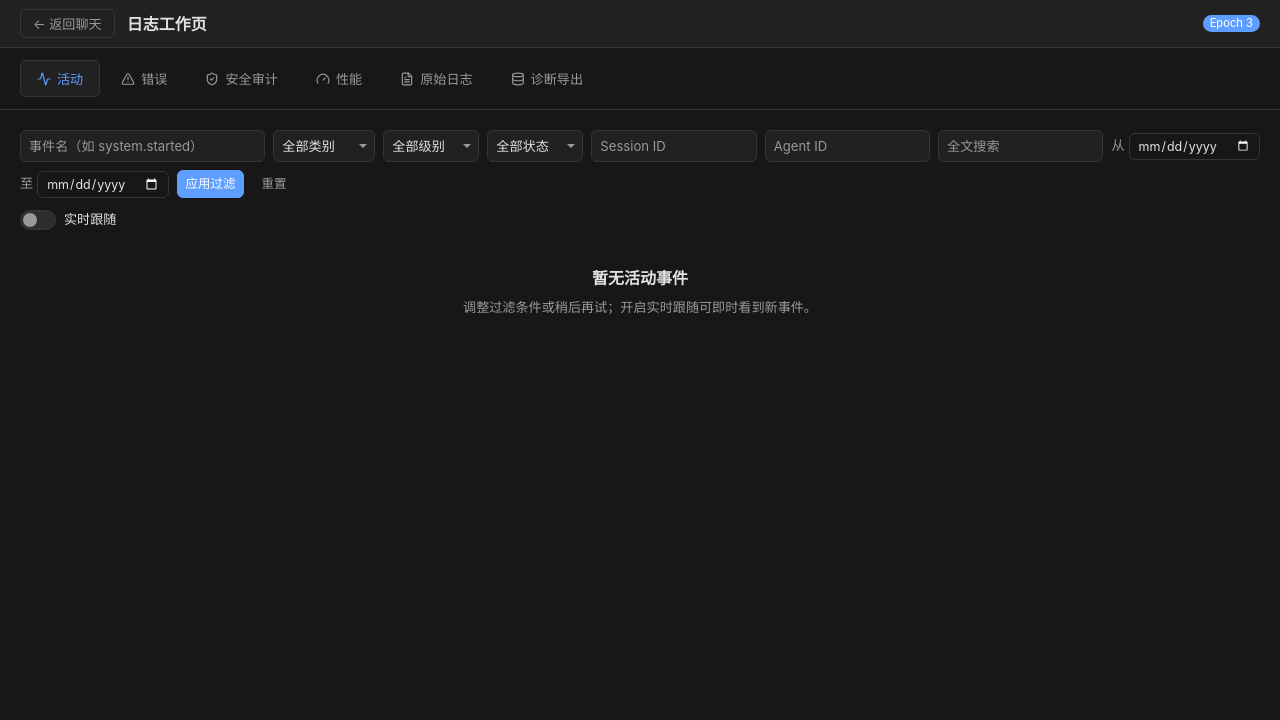
Scenario: LogsPage 原始日志 tab › 选择进程/文件/行数并加载 tail 渲染
The width and height of the screenshot is (1280, 720).
Expected: the heading "暂无活动事件" is shown, x1=592 y1=266 x2=688 y2=290
Click the tab with test id "logs-tab-raw". click: (436, 78)
box: x1=383 y1=60 x2=490 y2=97
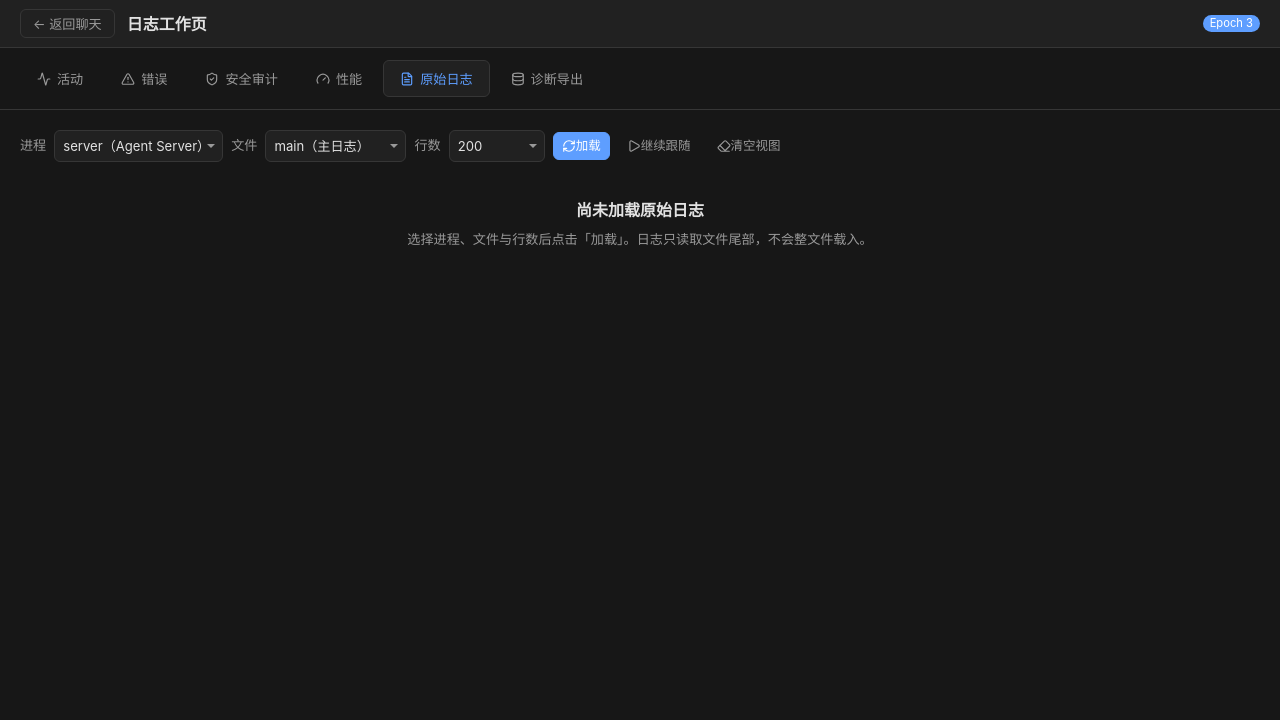
Click the button "加载". click: (581, 146)
box: x1=553 y1=132 x2=610 y2=160
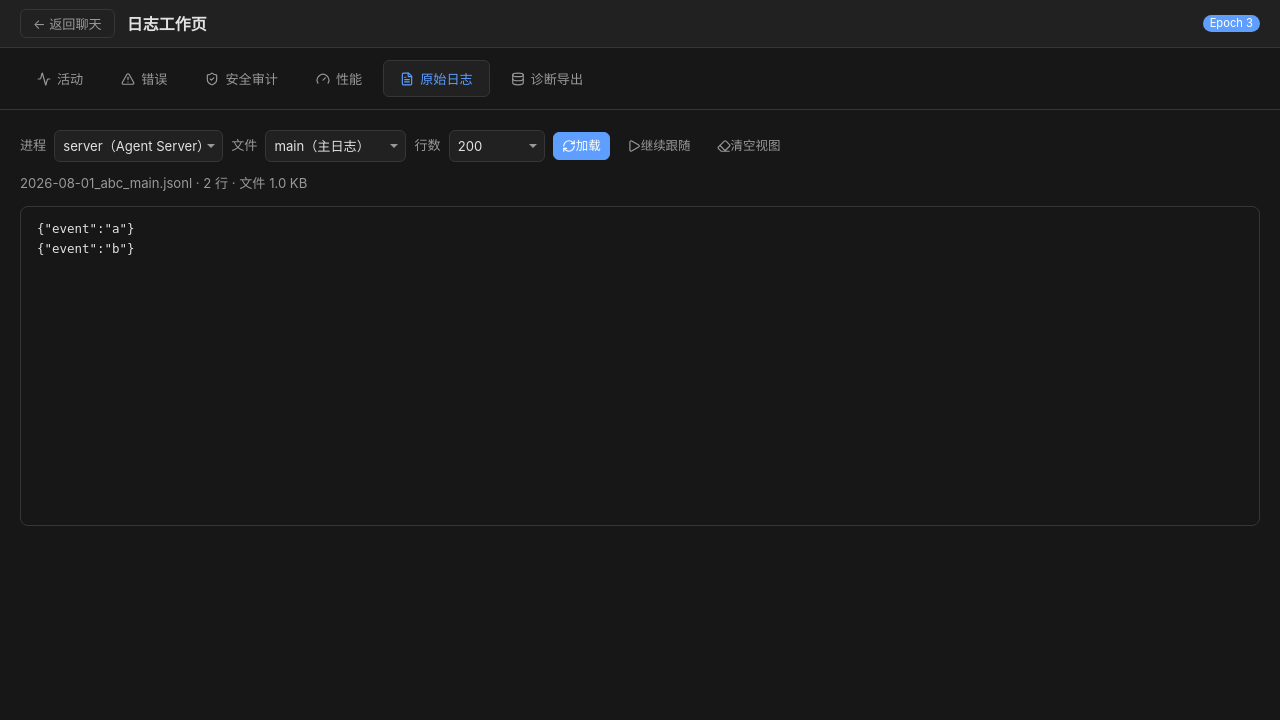
Expected: the text with test id "log-viewer" shows "{\"event\":\"a\"}", x1=37 y1=221 x2=135 y2=256
Expected: the text with test id "log-viewer" shows "{\"event\":\"b\"}", x1=37 y1=221 x2=135 y2=256
Expected: the text with test id "tail-meta" shows "2 行", x1=20 y1=175 x2=307 y2=191
